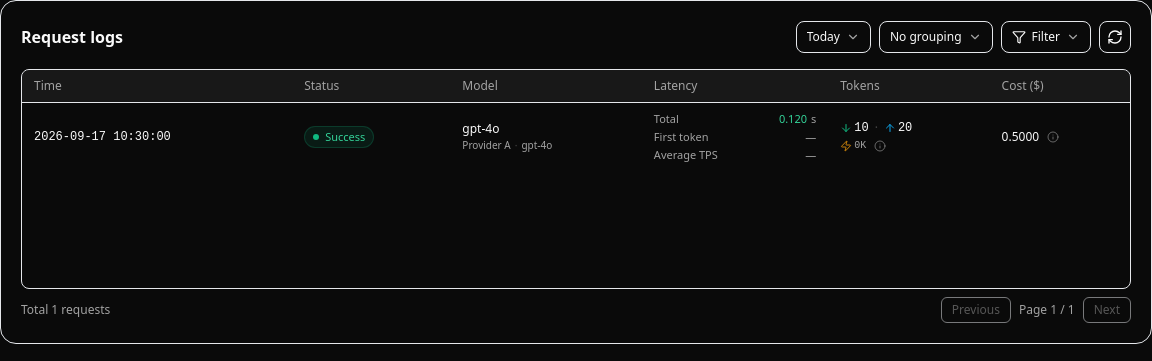
UsageLogsPanel › 切换为 Day（UTC+8）分组展示分组列与错误数
expect the table with test id "ai-gateway-logs-ungrouped" is shown: met, box [22,70,1130,171]
Step 1. Click the button with test id "ai-gateway-logs-group-trigger" → {"x": 936, "y": 37}, box [879,21,992,53]
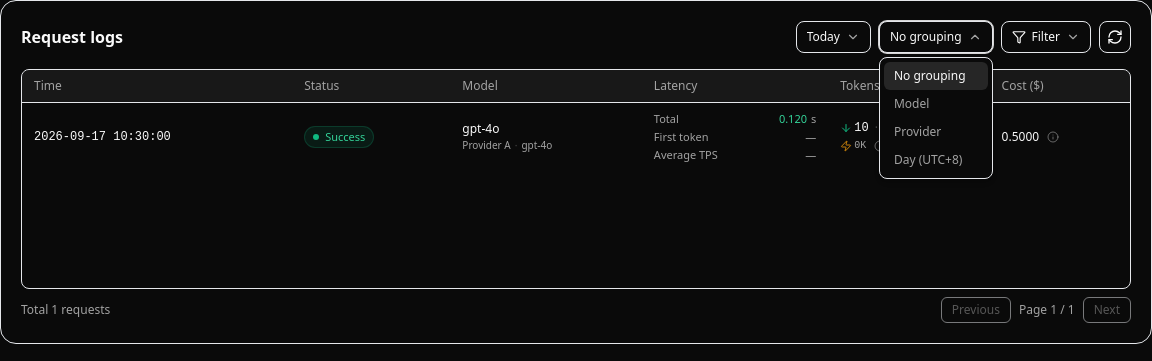
Step 2. Click the option "Day (UTC+8)" → {"x": 936, "y": 160}, box [884,146,988,174]
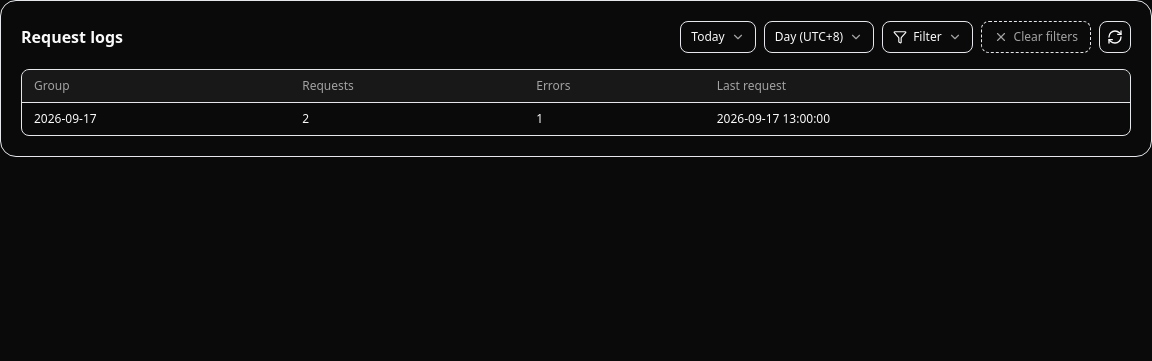
expect the button with test id "ai-gateway-logs-group-trigger" reads "Day (UTC+8)": met, box [764,21,874,53]
expect the column heading "Errors" is shown: met, box [524,70,705,102]
expect the number of column headings is 4: met, box [22,70,290,102]; [290,70,524,102]; [524,70,705,102]; [705,70,1130,102]
